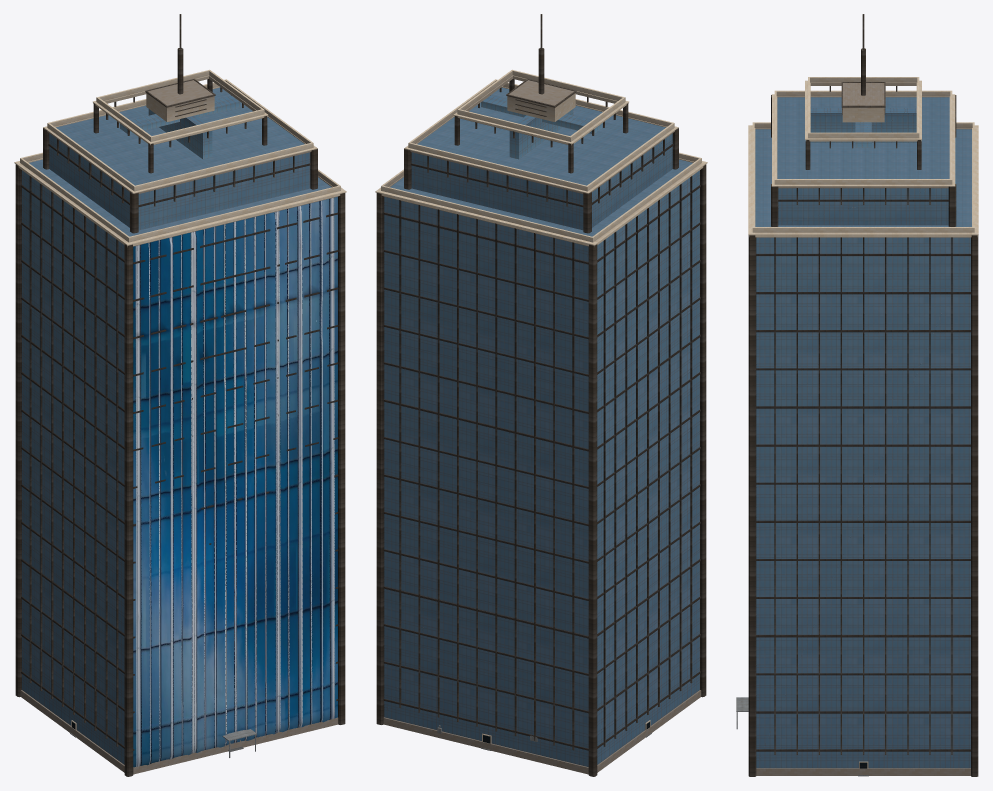
File: aurelia-hq_lod0.gltf
3 views of the same model, side by side, from view 1: azimuth 30°, elevation 25°; view 2: azimuth 150°, elevation 25°; view 3: azimuth 270°, elevation 25° (orthographic).
Visible parts, largest first — view 1: aurelia-hq_front, aurelia-hq_tier0, aurelia-hq__v4_metal_detail, aurelia-hq_tier1, aurelia-hq__v4_stone_detail, aurelia-hq_crown; view 2: aurelia-hq_tier0, aurelia-hq__v4_metal_detail, aurelia-hq_tier1, aurelia-hq__v4_stone_detail, aurelia-hq_crown; view 3: aurelia-hq_tier0, aurelia-hq__v4_metal_detail, aurelia-hq_tier1, aurelia-hq__v4_stone_detail, aurelia-hq_crown.
Part boxes in pixels (box(x1,y1,x2,y2)): aurelia-hq_front: box(133, 196, 337, 767); aurelia-hq_tier0: box(22, 159, 331, 764); aurelia-hq__v4_metal_detail: box(15, 14, 345, 776); aurelia-hq_tier1: box(49, 87, 310, 230); aurelia-hq__v4_stone_detail: box(14, 69, 346, 774); aurelia-hq_crown: box(120, 95, 240, 159); aurelia-hq_tier0: box(384, 159, 699, 766); aurelia-hq__v4_metal_detail: box(376, 14, 706, 776); aurelia-hq_tier1: box(411, 87, 672, 230); aurelia-hq__v4_stone_detail: box(375, 69, 707, 774); aurelia-hq_crown: box(481, 95, 601, 159); aurelia-hq_tier0: box(755, 129, 971, 768); aurelia-hq__v4_metal_detail: box(748, 14, 978, 776); aurelia-hq_tier1: box(777, 97, 949, 225); aurelia-hq__v4_stone_detail: box(748, 77, 978, 775); aurelia-hq_crown: box(810, 108, 916, 147).
Size of the model in its own units: 46.6 by 141 by 43.8.
